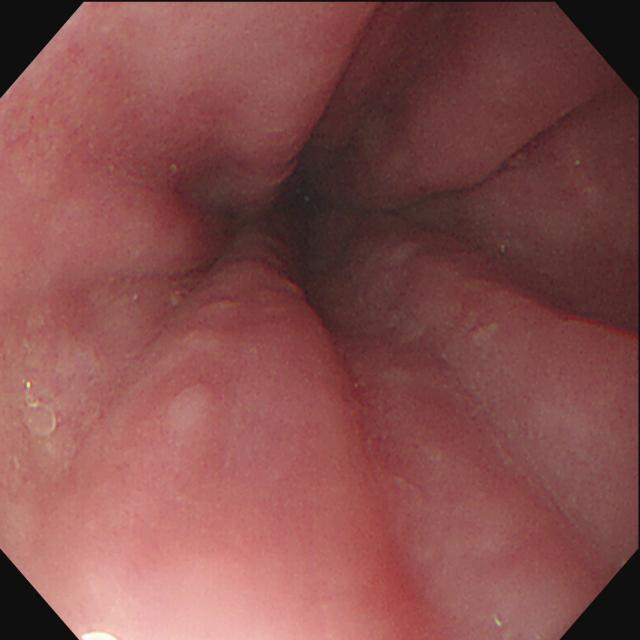J: (2, 306, 102, 475), (362, 242, 426, 345), (167, 383, 215, 438), (181, 325, 225, 353), (197, 297, 244, 315)
U: (83, 631, 120, 640)
